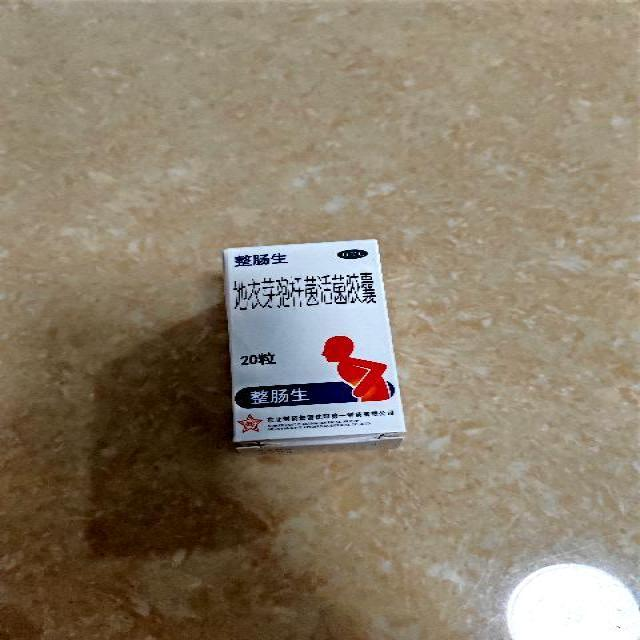box: (222, 237, 408, 446)
